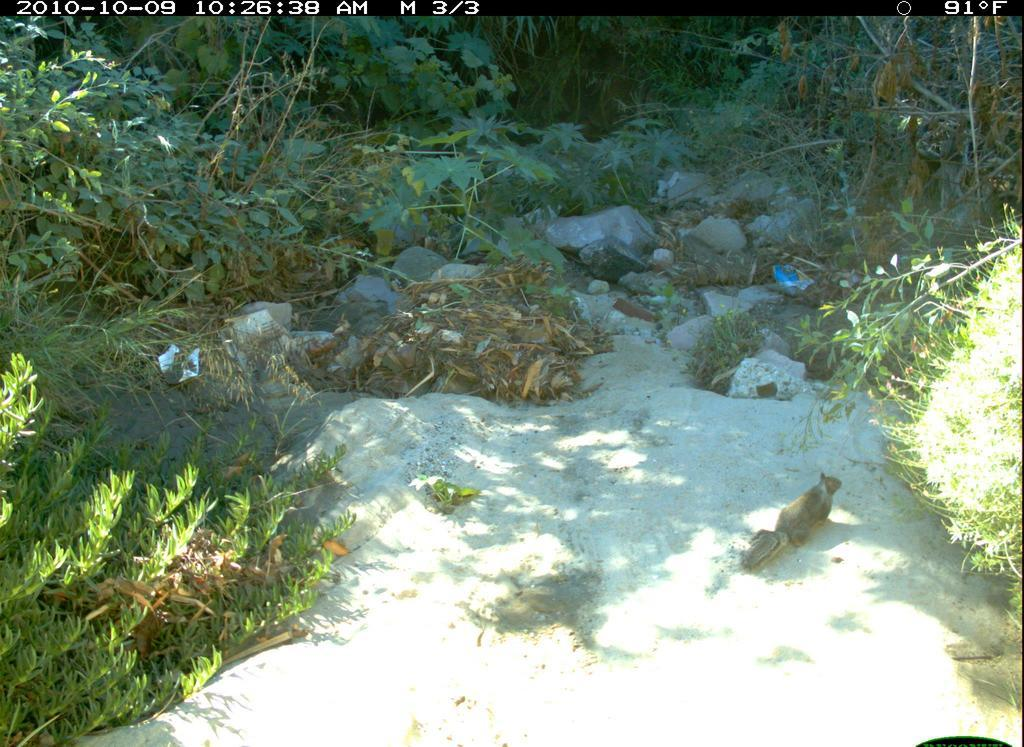squirrel: (730, 466, 854, 576)
